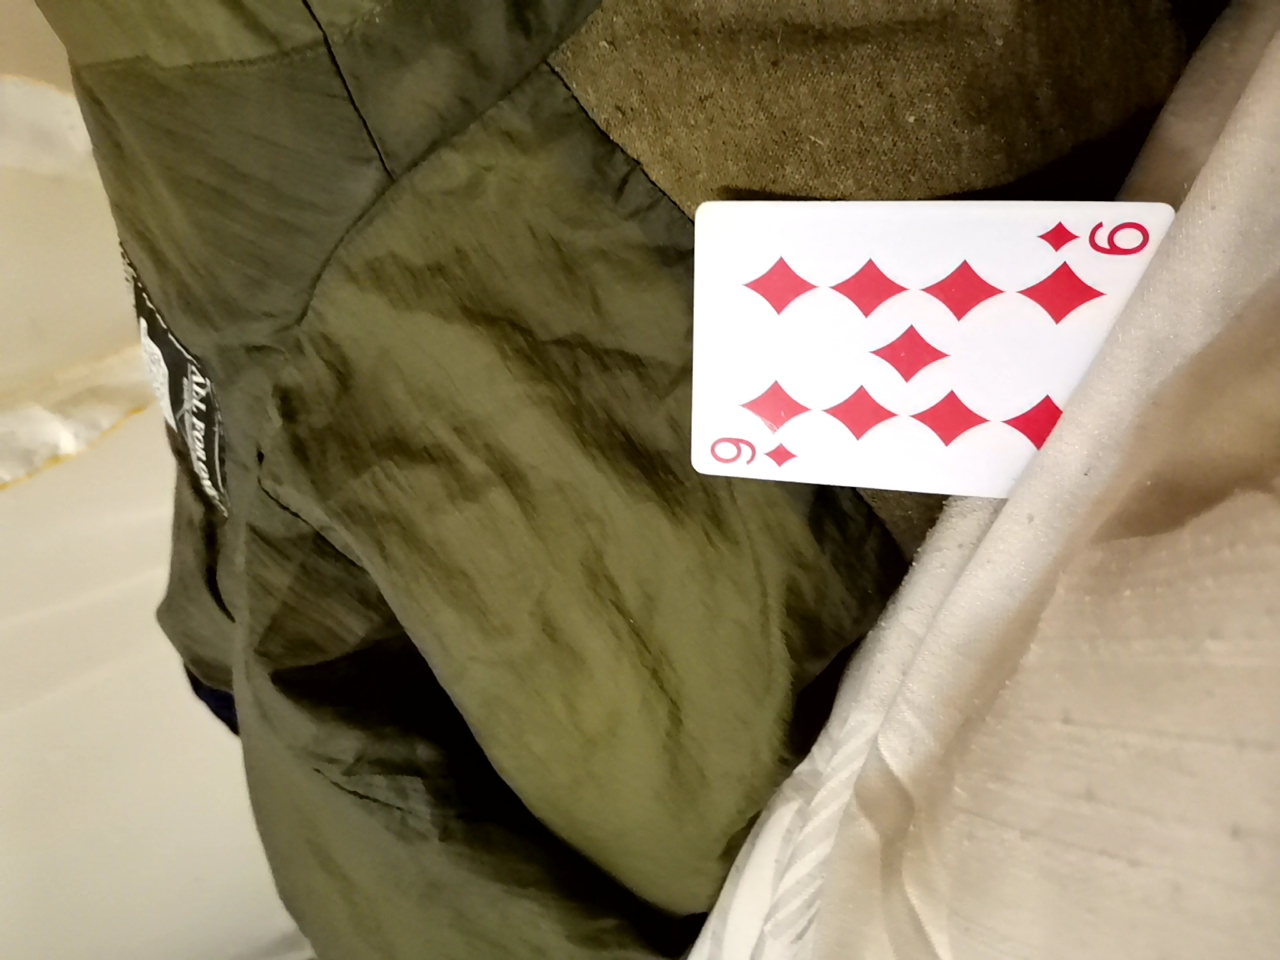fk 9: (659, 206, 1162, 519)
